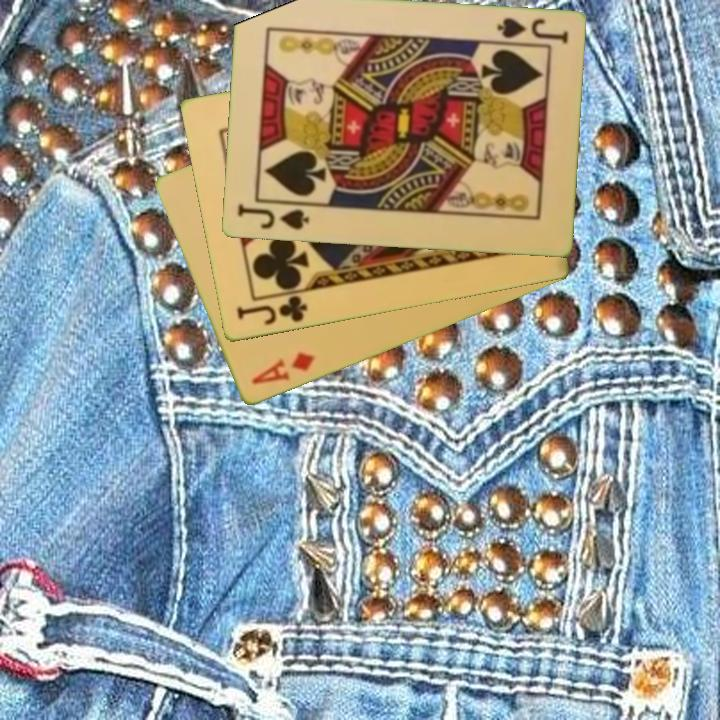Ad: (248, 349, 318, 388)
Jc: (232, 292, 310, 329)
Js: (493, 14, 571, 47), (233, 201, 312, 233)
